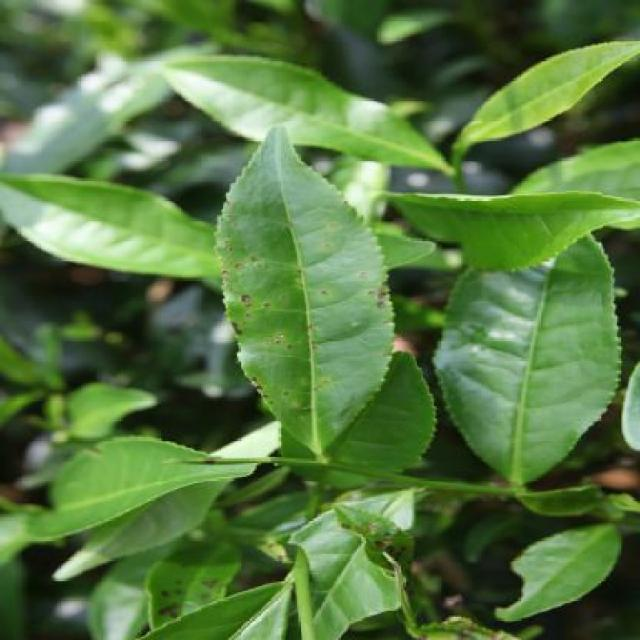Tea Mosquito bug infested leaf: (197, 92, 386, 458)
